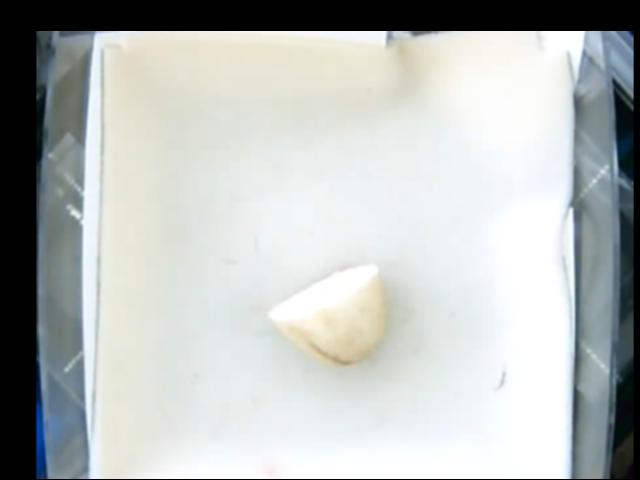Mooli: (265, 263, 386, 365)
